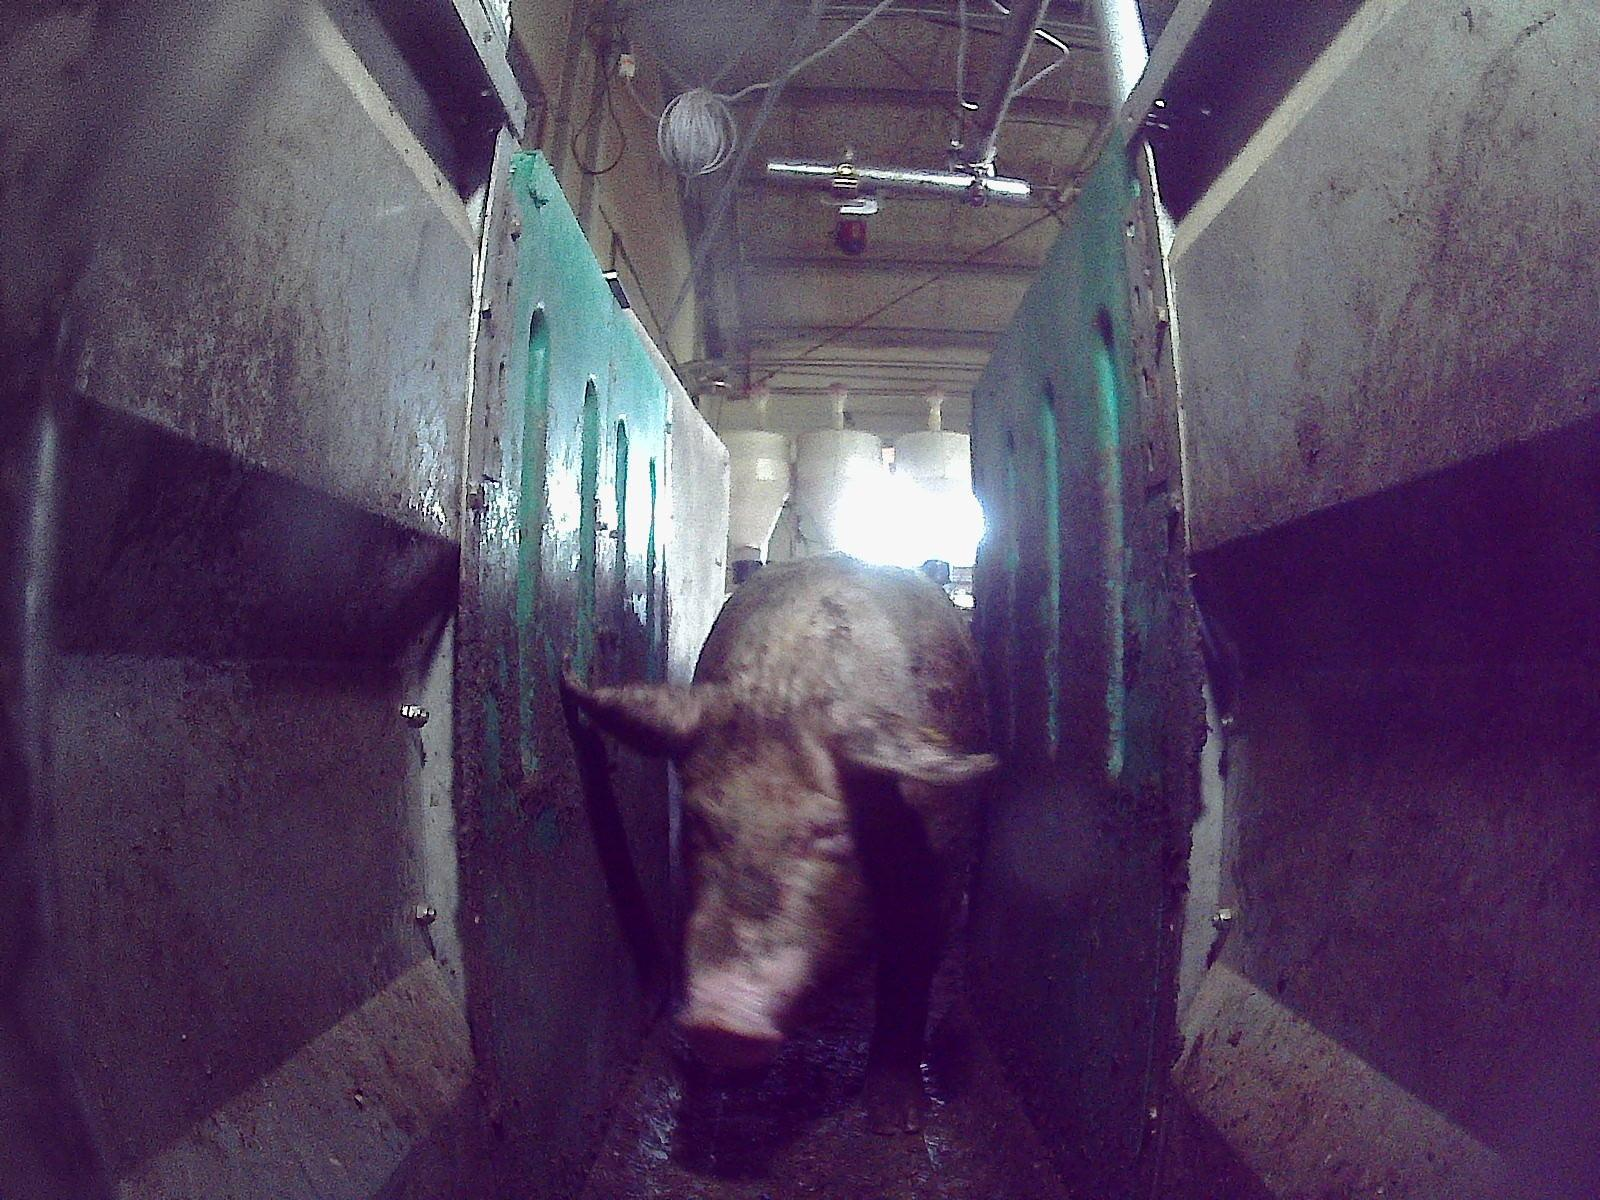Face: (667, 686, 884, 1065)
